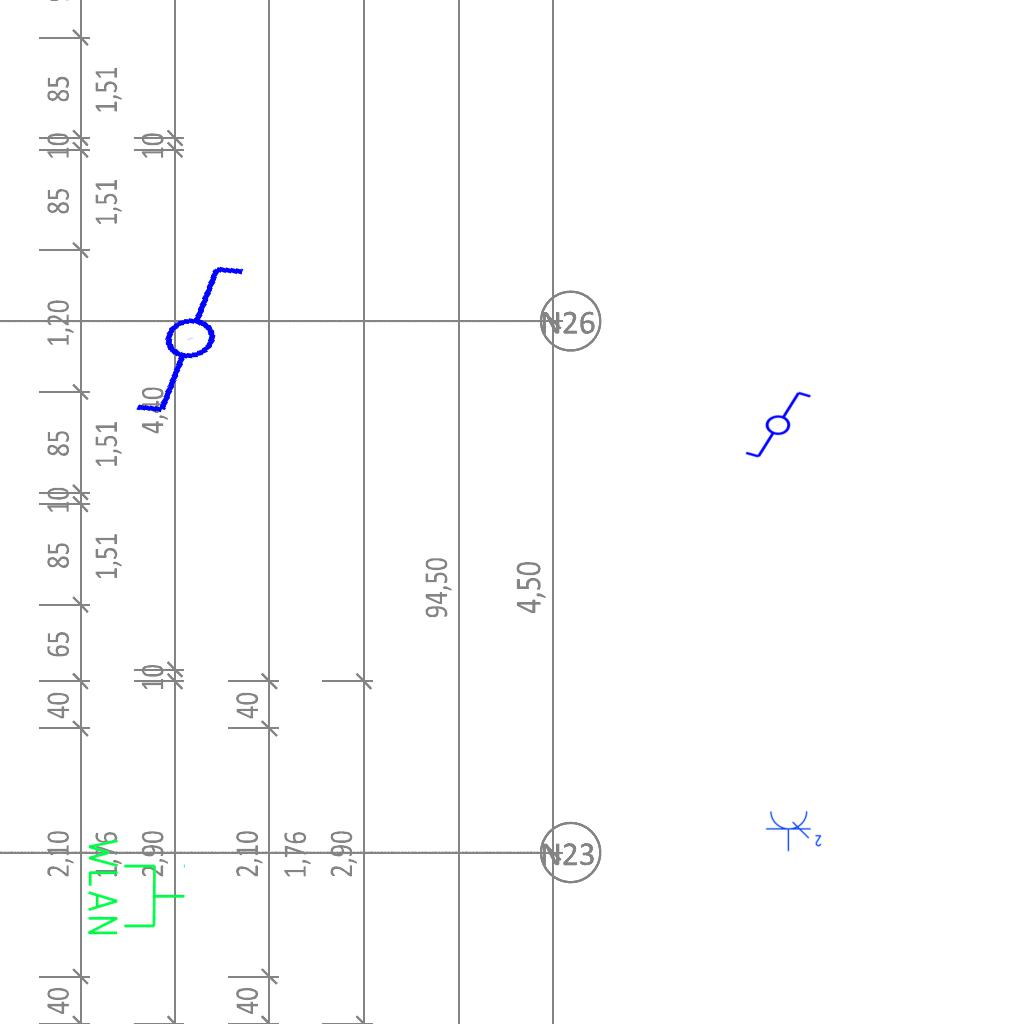Schukosteckdose_mehrfach: (765, 808, 825, 852)
WLAN: (84, 834, 188, 939)
Wechselschalter: (107, 253, 290, 425), (735, 388, 813, 460)
